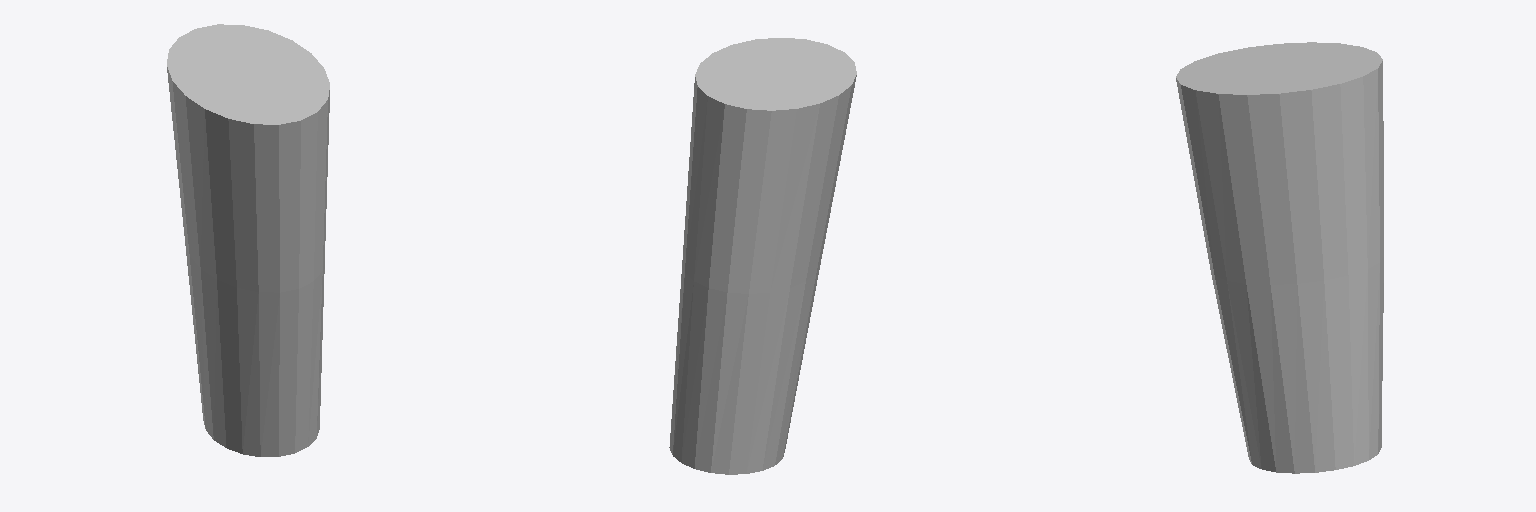
The model's file is upfoot1.obj.
The picture shows the model from 3 angles: view 1: azimuth 30°, elevation 25°; view 2: azimuth 150°, elevation 25°; view 3: azimuth 270°, elevation 25°; orthographic projection.
Parts seen in each view (by area): view 1: superman:pCylinder16; view 2: superman:pCylinder16; view 3: superman:pCylinder16.
Boxes of the visible parts, x1,y1,x2,y2 form: superman:pCylinder16: [167, 24, 329, 456]; superman:pCylinder16: [669, 38, 856, 474]; superman:pCylinder16: [1176, 42, 1383, 473].
Size of the model in its own units: 1.34 by 3.51 by 1.71.